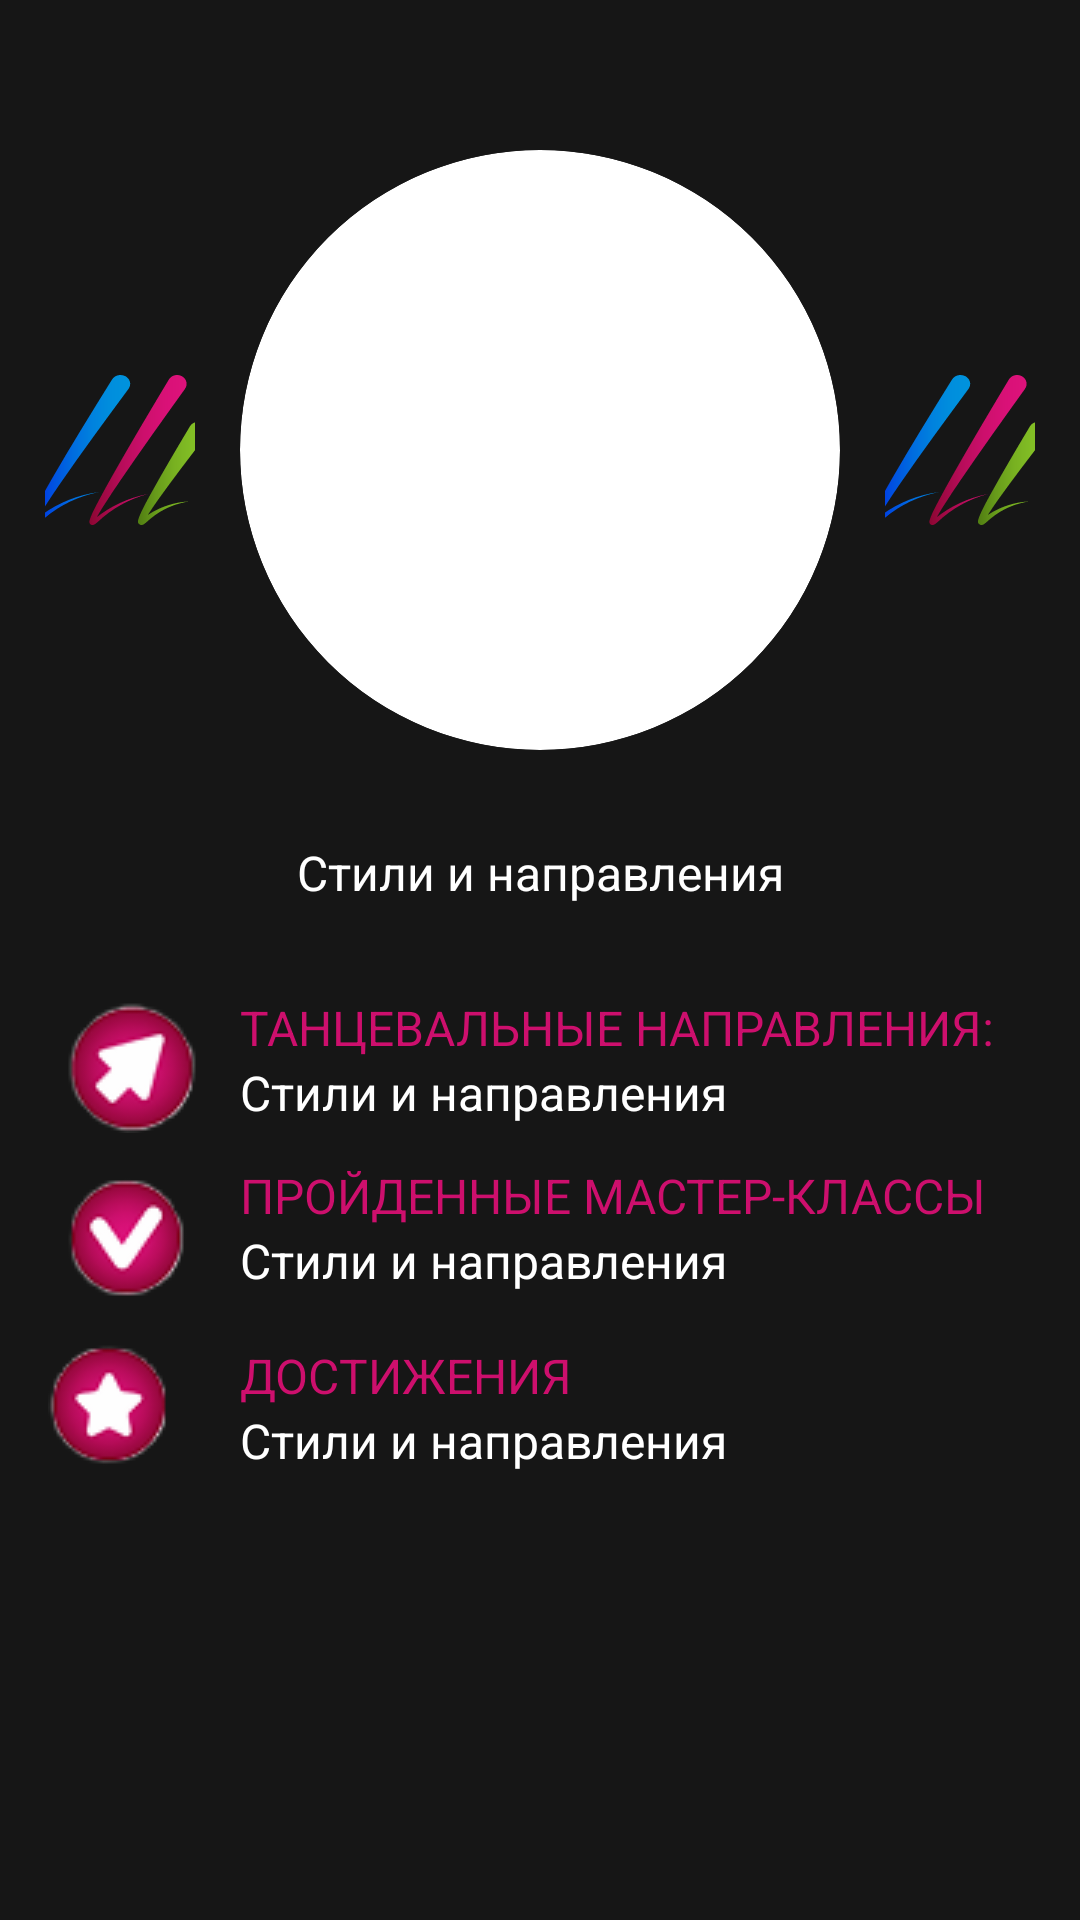

Named icons in this screenshot (1080 × 1920) and their centers, (x,y):
achievements: (108,1405)
